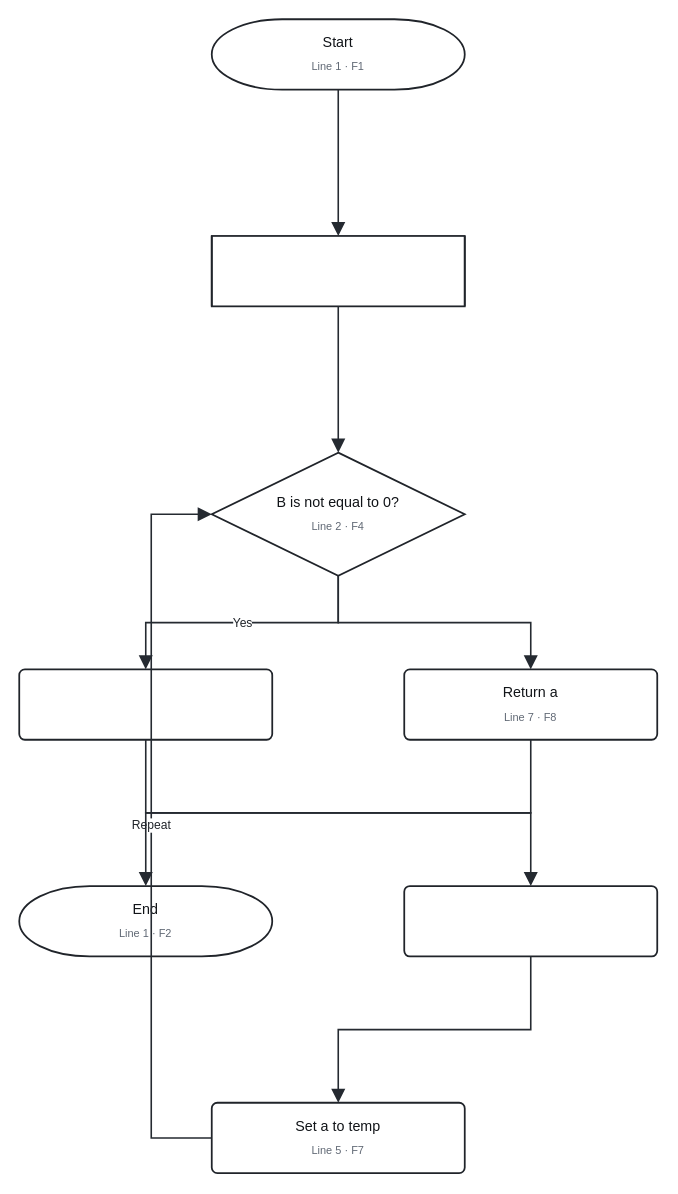
Some shapes in this 678 by 1194 pixel diagram are drawn without their labels. The shapes that lost their labels are listed below. From the top down, each one's centre as x and y in pixels, then its label:
the point at 337,271: Run function FindGCD with a, b Line 1 · F3
the point at 145,704: Set temp to b Line 3 · F5
the point at 530,921: Set b to a modulo b Line 4 · F6
